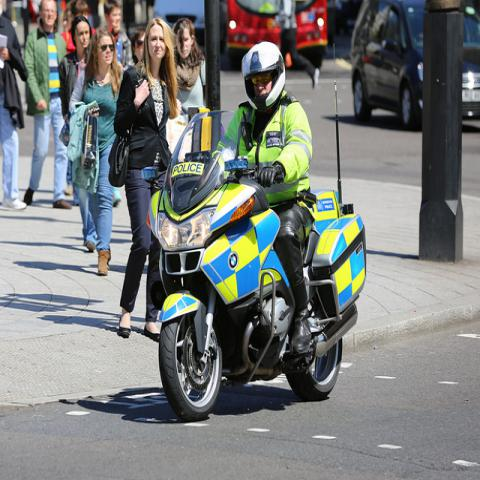bus: (220, 0, 329, 68)
car: (350, 0, 479, 130)
motorcycle: (143, 82, 370, 417)
